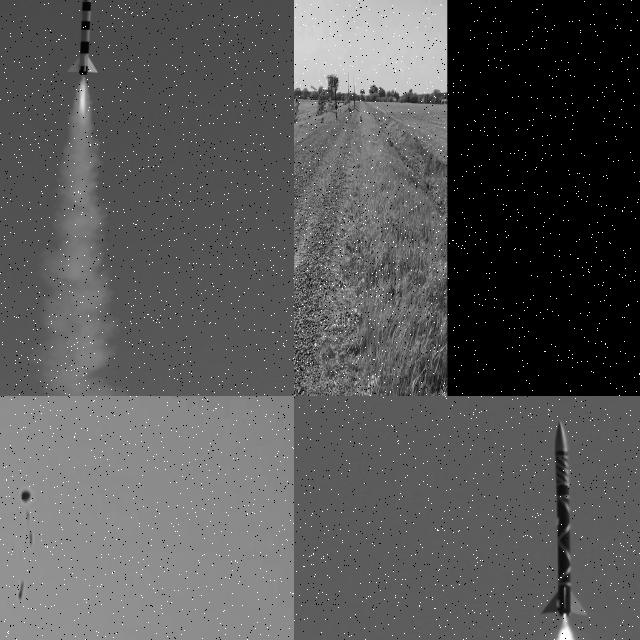Rocket: (540, 419, 587, 618), (64, 0, 98, 76), (334, 83, 338, 112), (18, 580, 24, 599)
